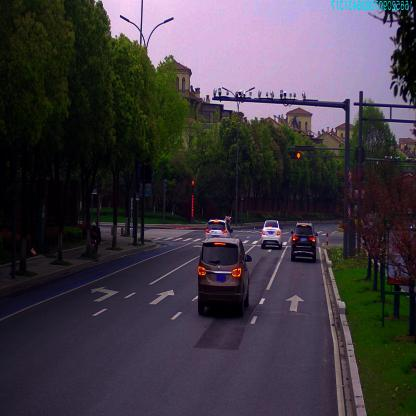traffic-light: (290, 152, 302, 160)
